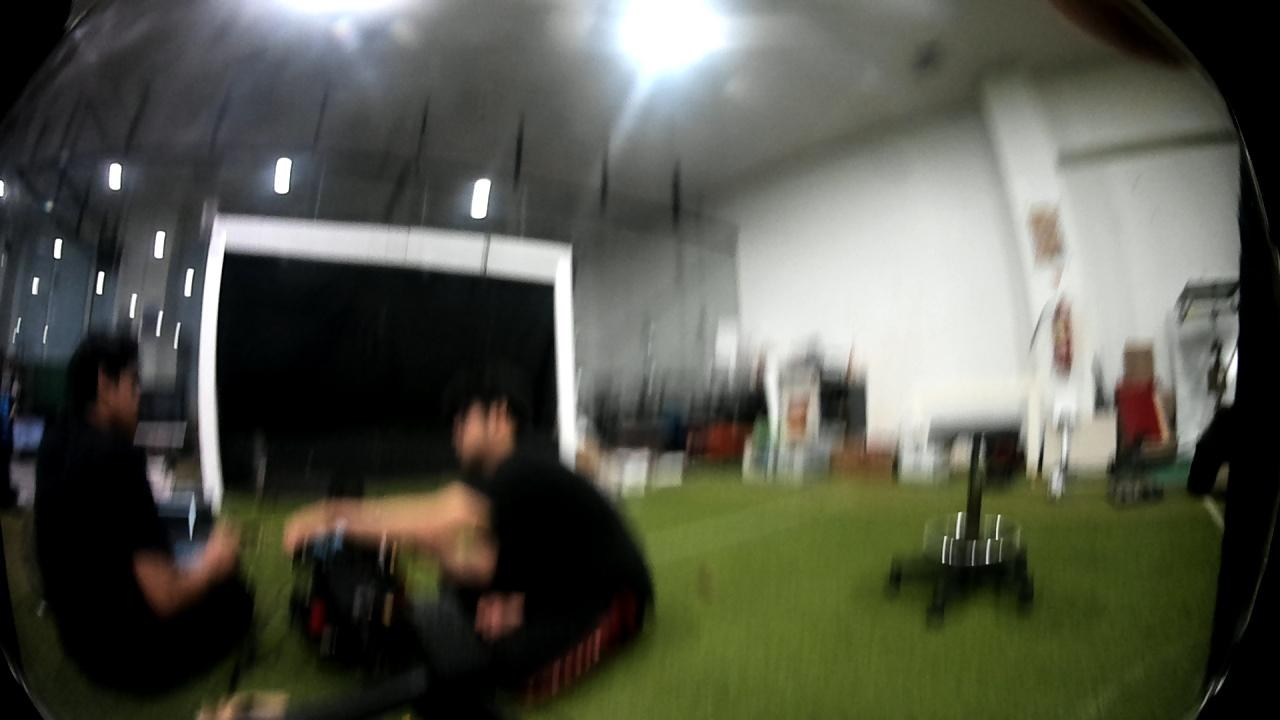ball: (1049, 466, 1067, 503)
